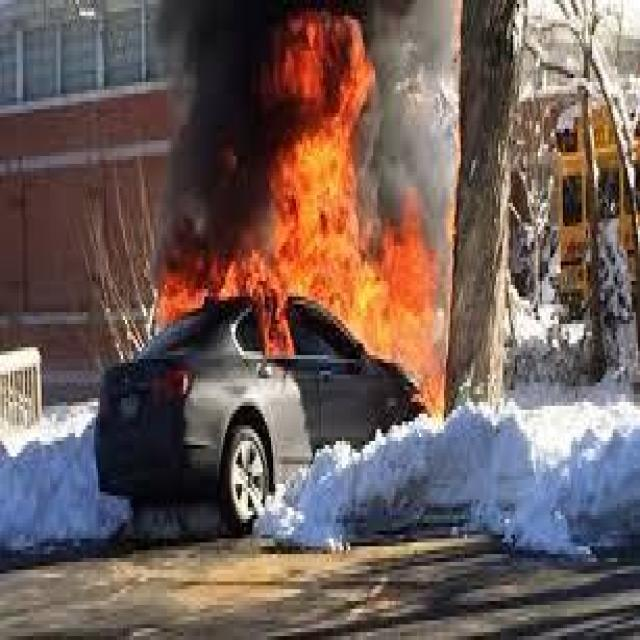fire: (158, 10, 462, 393)
